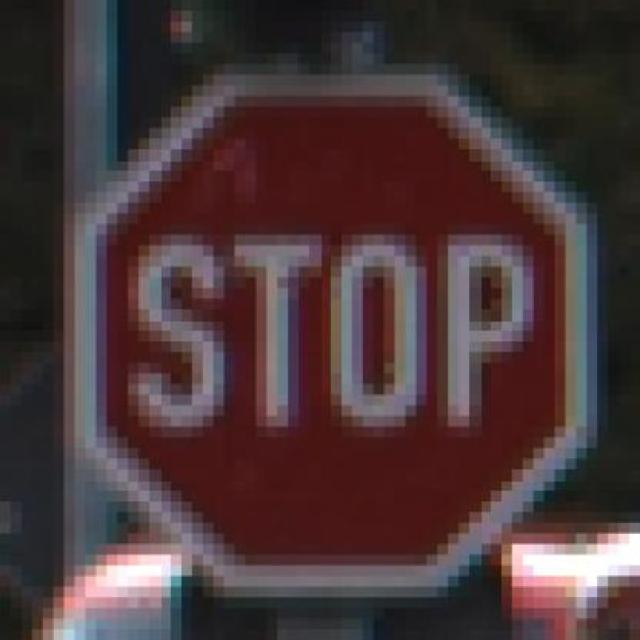Stop_Sign: (53, 53, 609, 619)
